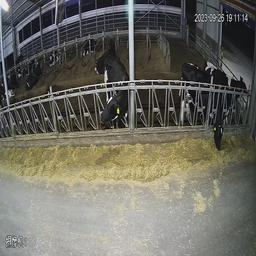cow: (183, 65, 227, 158), (201, 52, 251, 108), (100, 55, 130, 143), (20, 54, 43, 94), (102, 34, 122, 77), (78, 30, 98, 59), (46, 44, 65, 74)
